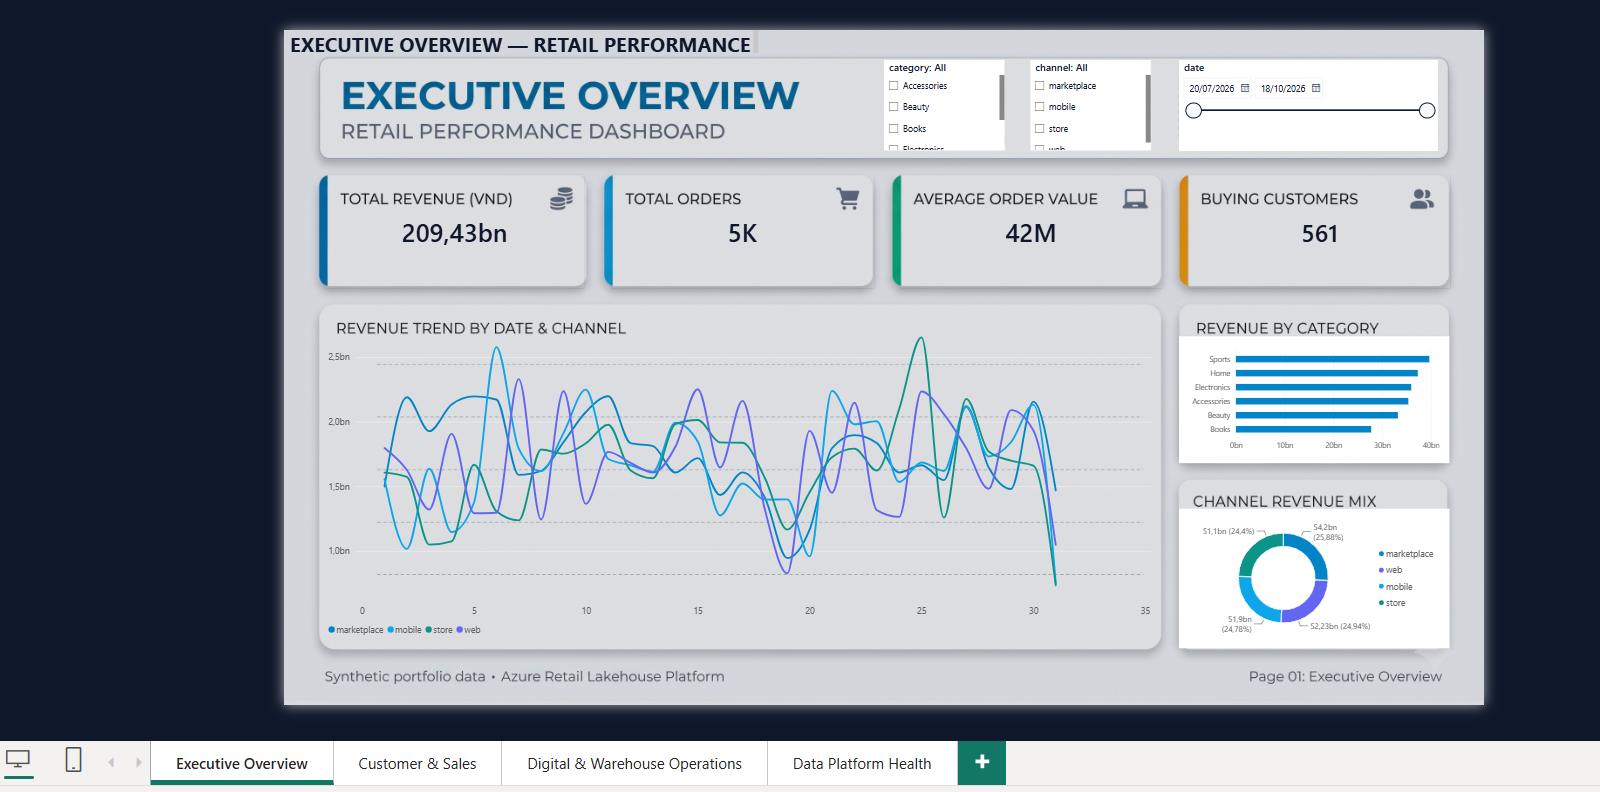

The dashboard page shown, as its layout file describes it:
{"tool":"powerbi","page":{"name":"Executive Overview","canvas":[1920,1080],"ordinal":0},"visuals":[{"type":"textbox","box":[10.9,0,749.2,47.1],"z":0},{"type":"cardVisual","title":"Tổng doanh thu","fields":{"Data":["fact_sales.Total Revenue"]},"box":[67,231.6,414.4,181],"z":4},{"type":"cardVisual","title":"Tổng doanh thu","fields":{"Data":["fact_sales.Total Orders"]},"box":[524.8,231.6,419.8,181],"z":5},{"type":"cardVisual","title":"Tổng doanh thu","fields":{"Data":["fact_sales.Average Order Value"]},"box":[986.3,231.6,418,181],"z":6},{"type":"cardVisual","title":"Tổng doanh thu","fields":{"Data":["fact_sales.Buying Customers"]},"box":[1447.7,231.6,418,181],"z":7},{"type":"lineChart","fields":{"Category":["dim_date.date.Variation.Date Hierarchy.Day"],"Series":["fact_sales.channel"],"Y":["fact_sales.Total Revenue"]},"box":[54.3,437.9,1350,551.9],"z":8},{"type":"clusteredBarChart","fields":{"Category":["dim_product.category"],"Y":["fact_sales.Total Revenue"]},"box":[1432.7,489.1,432.8,203.4],"z":9},{"type":"donutChart","fields":{"Category":["fact_sales.channel"],"Y":["fact_sales.Total Revenue"]},"box":[1432.7,766.1,432.8,222.9],"z":10},{"type":"slicer","fields":{"Values":["dim_date.date"]},"box":[1432.7,47.6,413.4,145],"z":11},{"type":"slicer","fields":{"Values":["dim_product.category"]},"box":[960.9,47.6,192.6,145],"z":12},{"type":"slicer","fields":{"Values":["fact_sales.channel"]},"box":[1194.6,47.6,192.6,145],"z":13}]}

Visuals, with their boxes on the page's 1920x1080 design canvas (x1, y1, x2, y2). These are canvas units, not pixel positions in the 1600x792 screenshot, which may show the page scaled, cropped or inside an application window:
textbox: [11, 0, 760, 47]
"Tổng doanh thu" cardVisual: [67, 232, 481, 413]
"Tổng doanh thu" cardVisual: [525, 232, 945, 413]
"Tổng doanh thu" cardVisual: [986, 232, 1404, 413]
"Tổng doanh thu" cardVisual: [1448, 232, 1866, 413]
lineChart - dim_date.date.Variation.Date Hierarchy.Day x fact_sales.channel: [54, 438, 1404, 990]
clusteredBarChart - dim_product.category x fact_sales.Total Revenue: [1433, 489, 1866, 692]
donutChart - fact_sales.channel x fact_sales.Total Revenue: [1433, 766, 1866, 989]
slicer - dim_date.date: [1433, 48, 1846, 193]
slicer - dim_product.category: [961, 48, 1154, 193]
slicer - fact_sales.channel: [1195, 48, 1387, 193]
